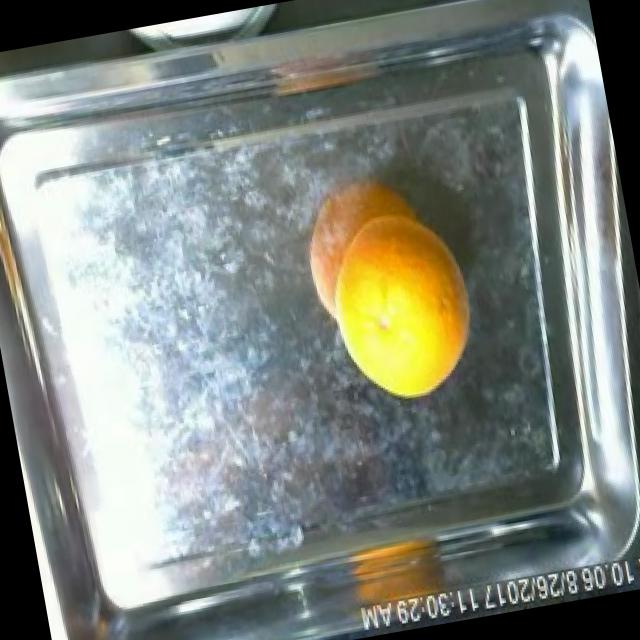Fruit: (308, 210, 496, 422)
